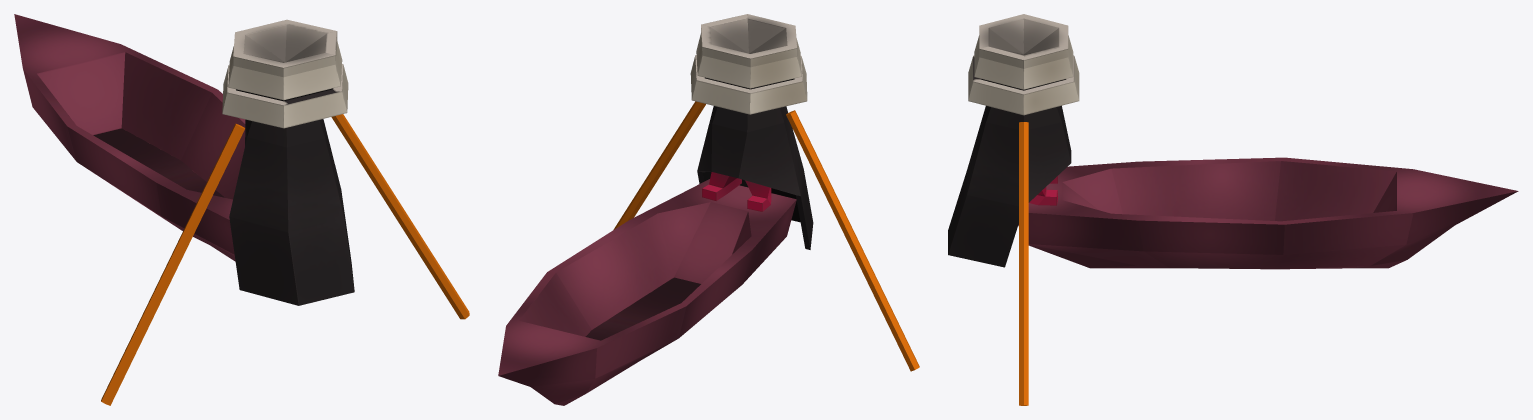
Rendered from boat.fbx.
3 renders of one model, left to right at view 1: azimuth 30°, elevation 25°; view 2: azimuth 150°, elevation 25°; view 3: azimuth 270°, elevation 25°, orthographic. The views are drawn at different scales.
Visible parts, largest first — view 1: cone, cylinder, cylinder_2, cylinder_1; view 2: cylinder, cone, cylinder_2, cylinder_1; view 3: cylinder, cone, cylinder_1.
Boxes of the visible parts, x1,y1,x2,y2 form: cone: (222, 19, 354, 305); cylinder: (14, 14, 245, 261); cylinder_2: (101, 123, 244, 405); cylinder_1: (331, 114, 469, 319); cylinder: (498, 179, 796, 405); cone: (690, 14, 813, 249); cylinder_2: (786, 110, 919, 371); cylinder_1: (613, 101, 705, 229); cylinder: (1018, 157, 1518, 269); cone: (948, 14, 1079, 267); cylinder_1: (1019, 122, 1028, 405).
Size of the model in its own units: 256 by 212 by 377.
3 materials, 3 textured.
